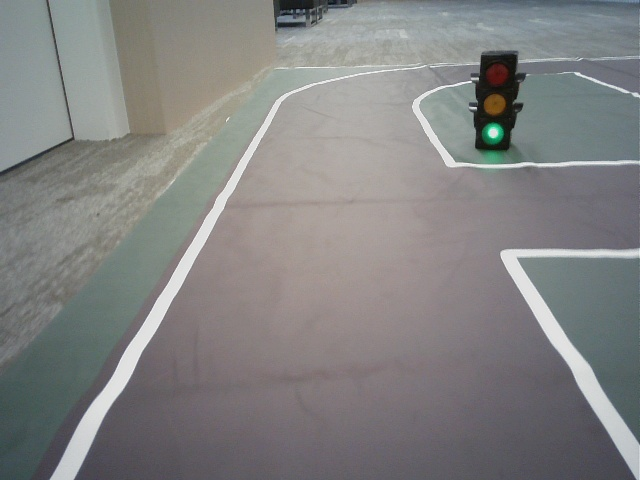green: (477, 57, 511, 143)
